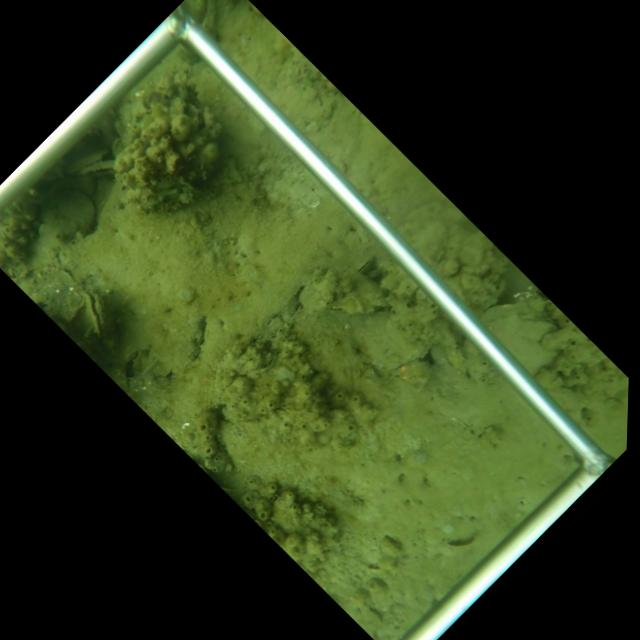Oyster-Closed: (480, 303, 564, 379), (247, 349, 283, 379), (72, 157, 121, 176)
Oyster-Indeterminate: (334, 309, 435, 377), (50, 188, 96, 240)
Oyster-Open: (78, 285, 108, 343), (352, 256, 374, 278)
